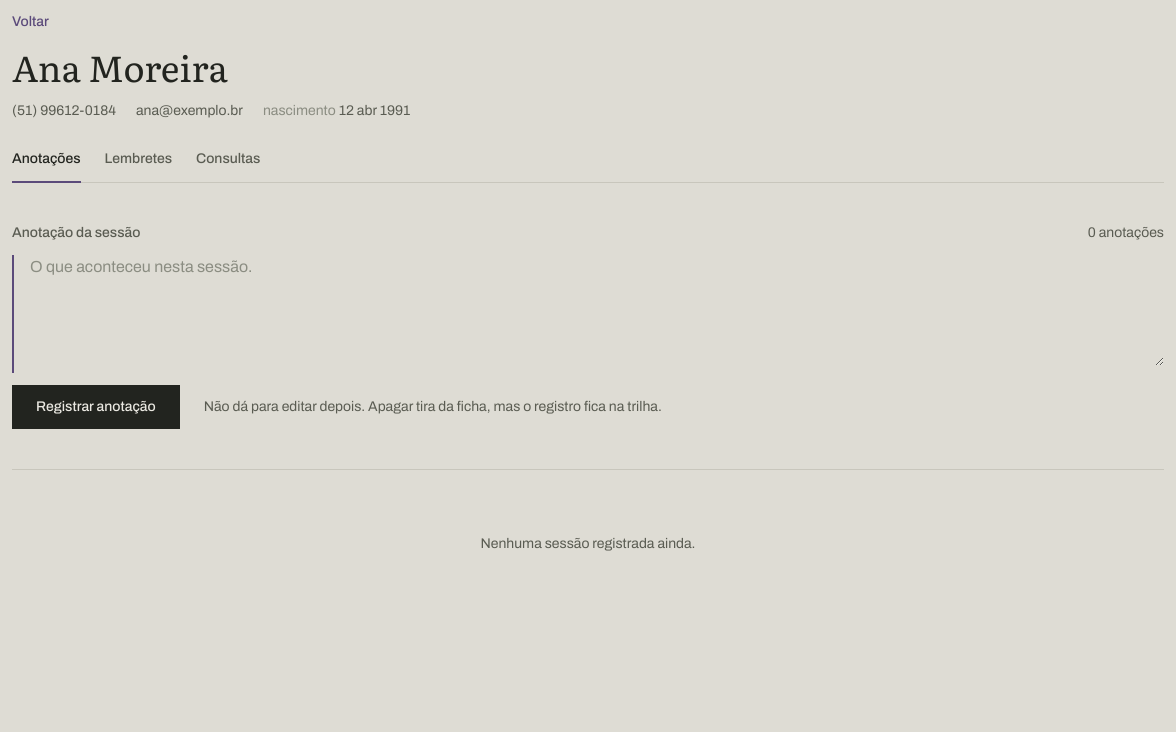
Test: FichaPage › trava o registro enquanto o POST esta em voo
Type "Sessão de hoje." into the text box labelled "Anotação da sessão".
click(597, 310); type("Sessão de hoje.")  # box [30,255,1164,366]
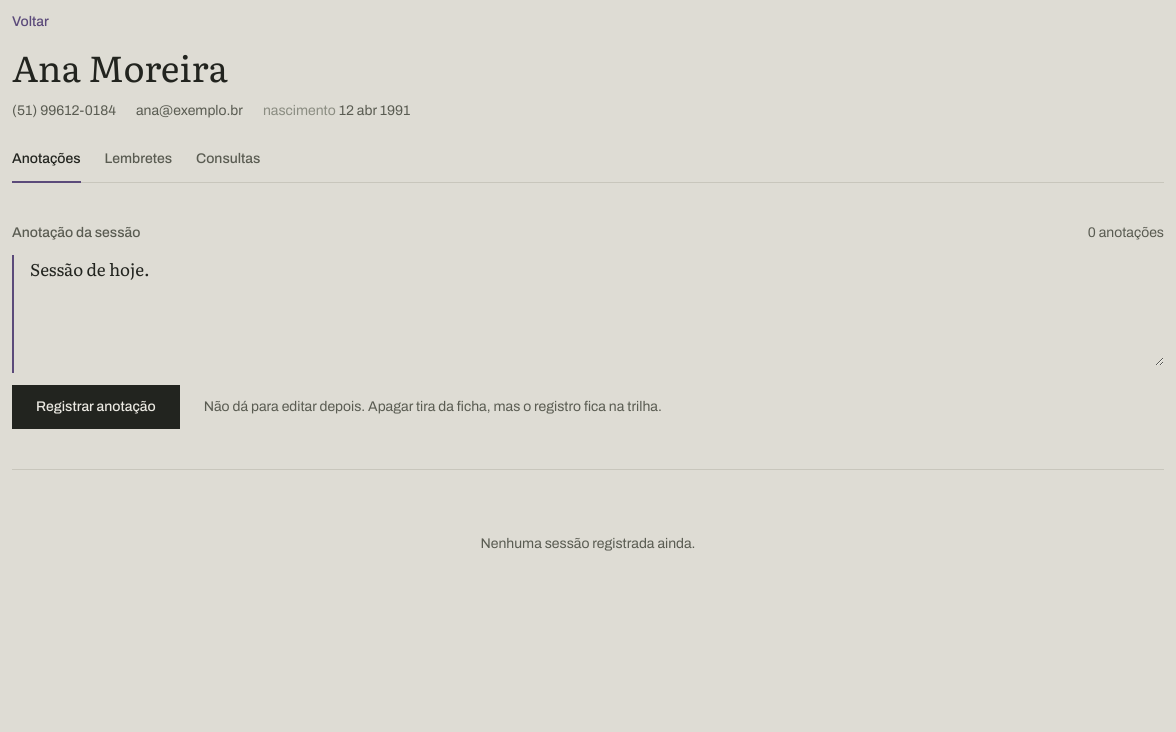
Click the button "Registrar anotação".
click(96, 406)  # box [12,384,180,428]
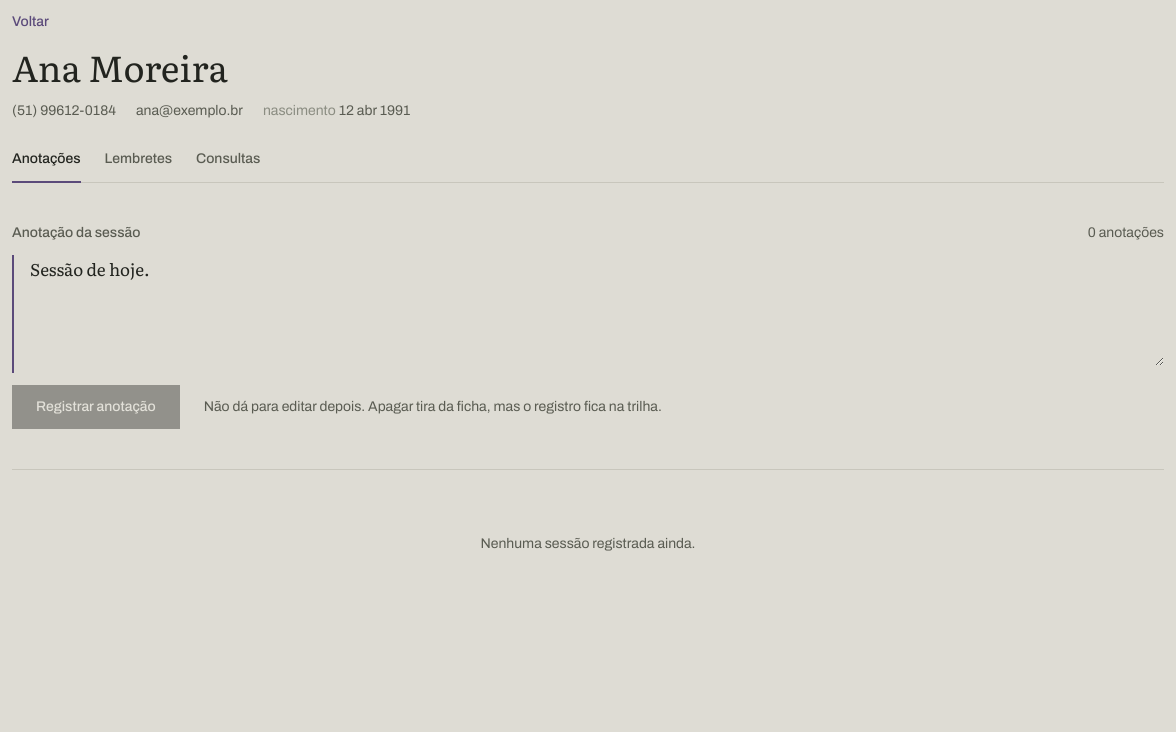
Expected: the button "Registrar anotação" is disabled, [12,384,180,428]
